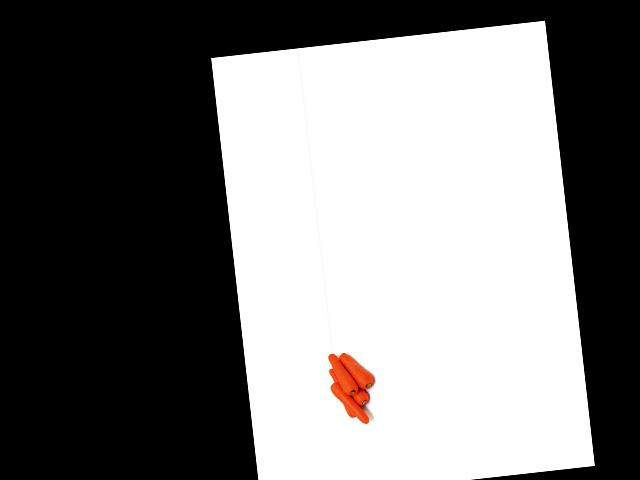carrot: (338, 347, 380, 397)
